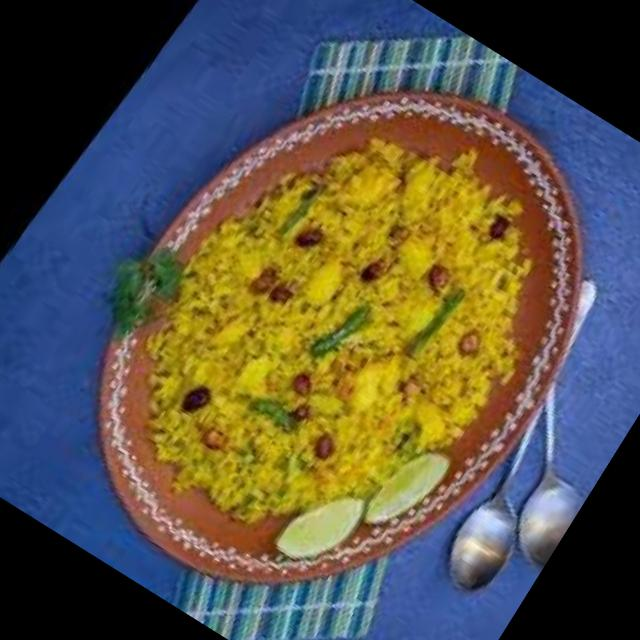poha: (63, 43, 602, 612)
